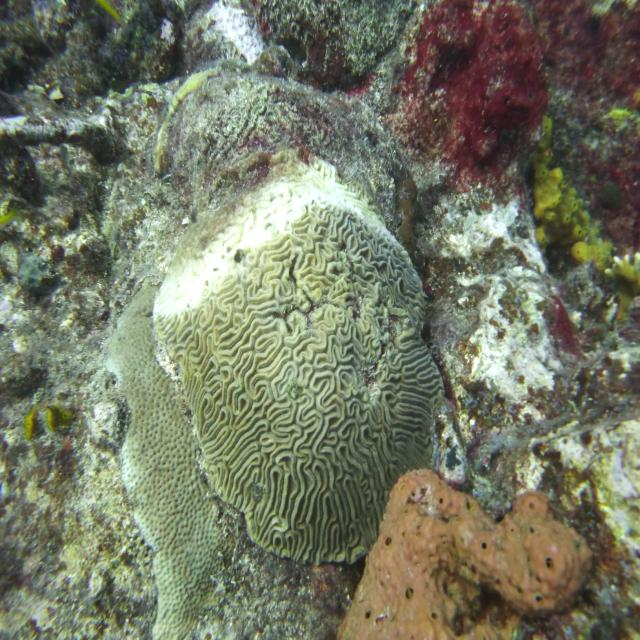Coral: (104, 146, 445, 640)
